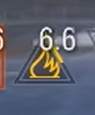1fire: (10, 55, 80, 88)
